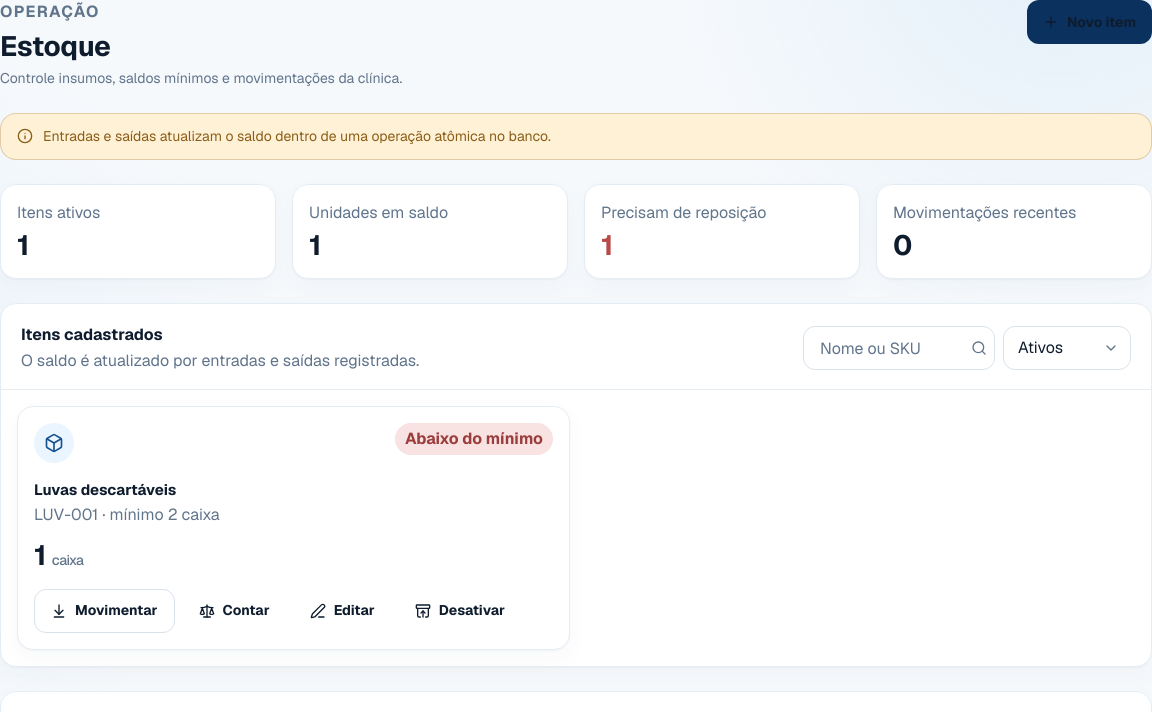
it: ajuste por contagem › contagem que confere vira aviso de sucesso, não erro
Click the button "Contar" at [234, 611], box [182,589,286,633]
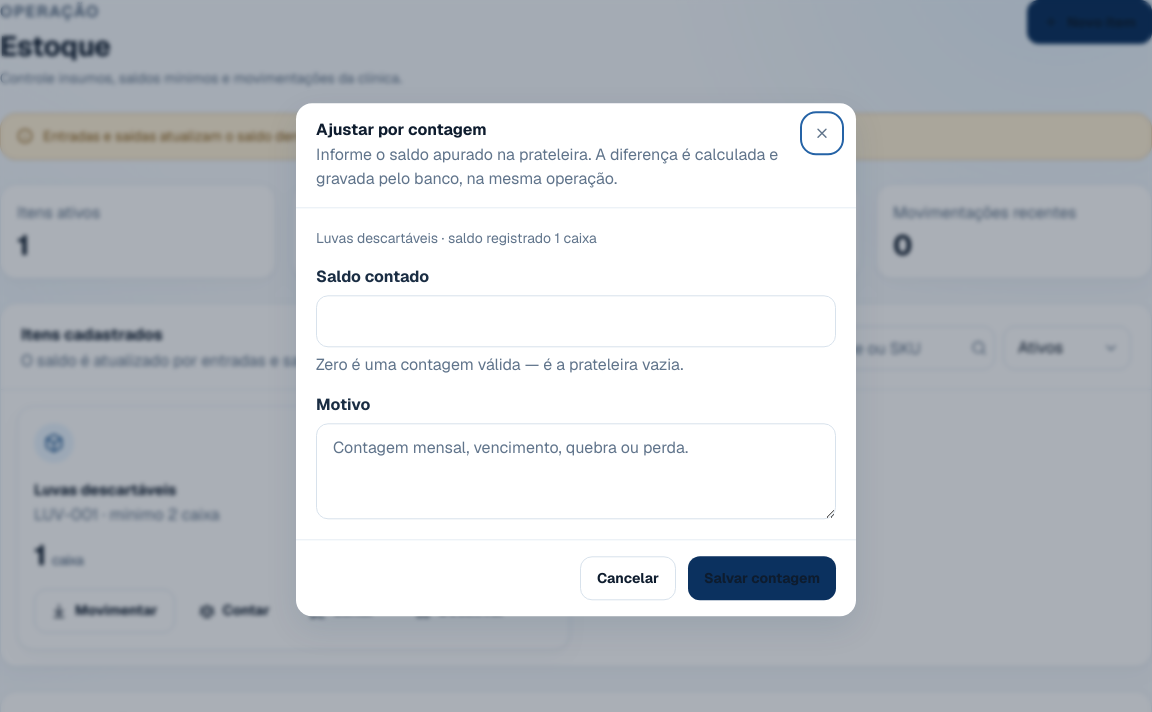
Type "1" into the number field labelled "Saldo contado" at [576, 322], box [316,296,836,348]
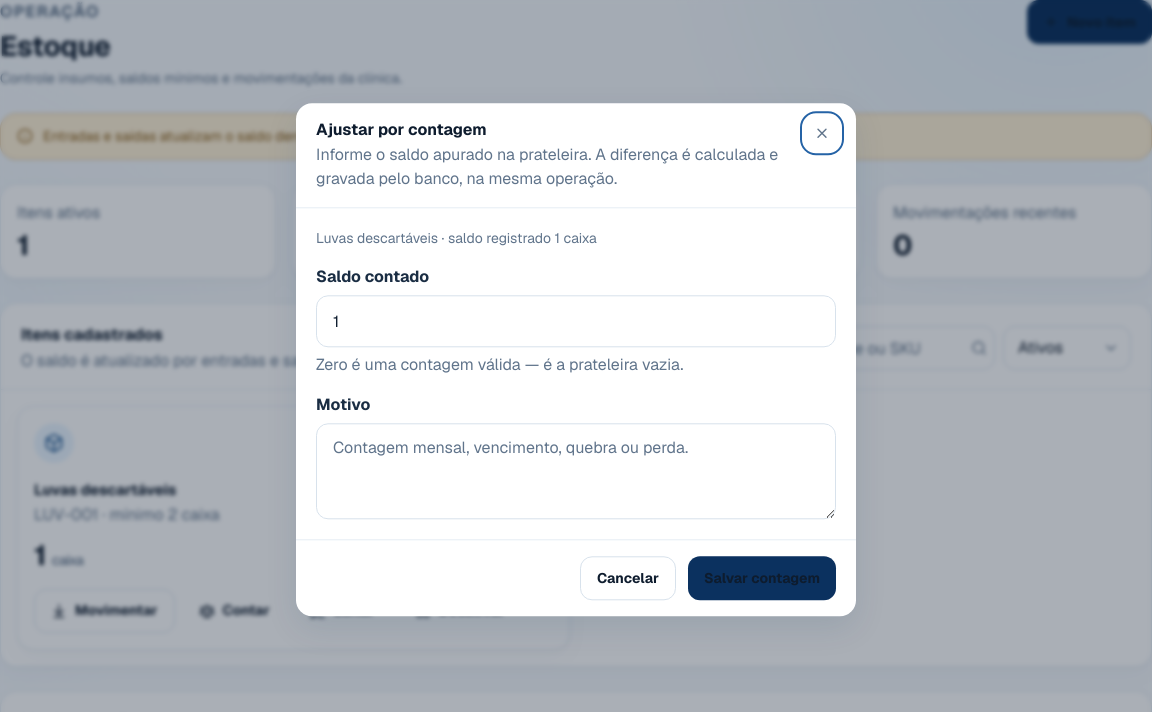
Click the button "Salvar contagem" at [762, 579], box [688,557,836,601]
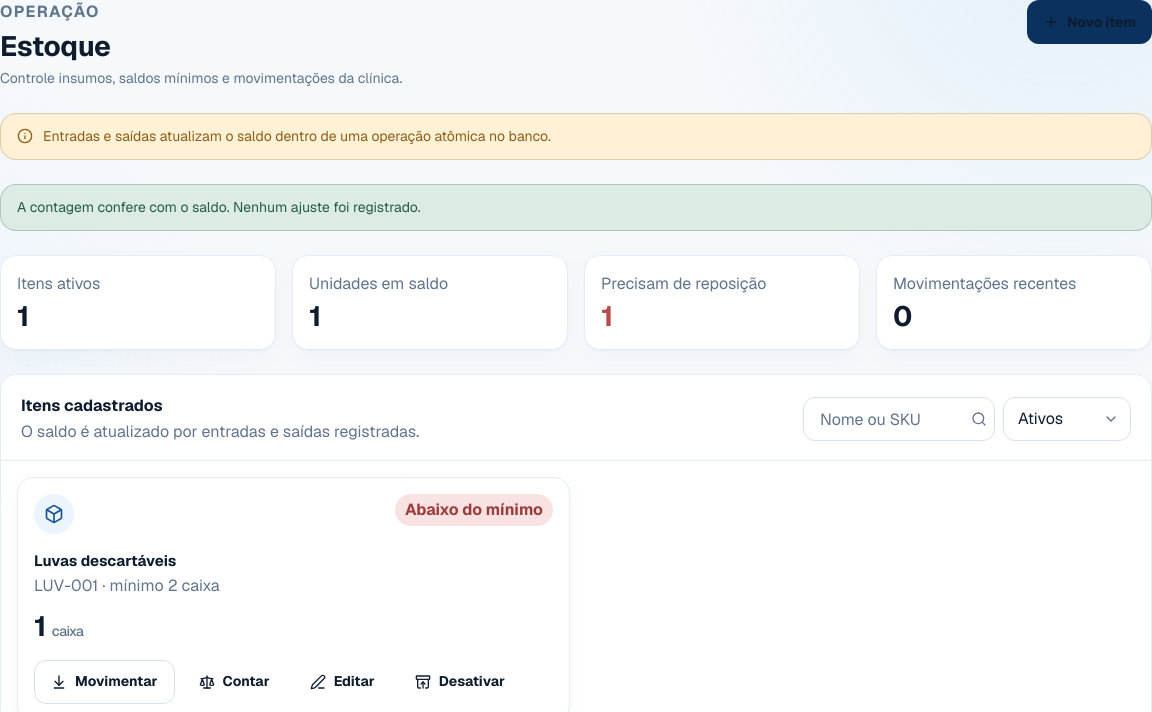
Now the message shows "confere com o saldo", box [17,198,421,216]
